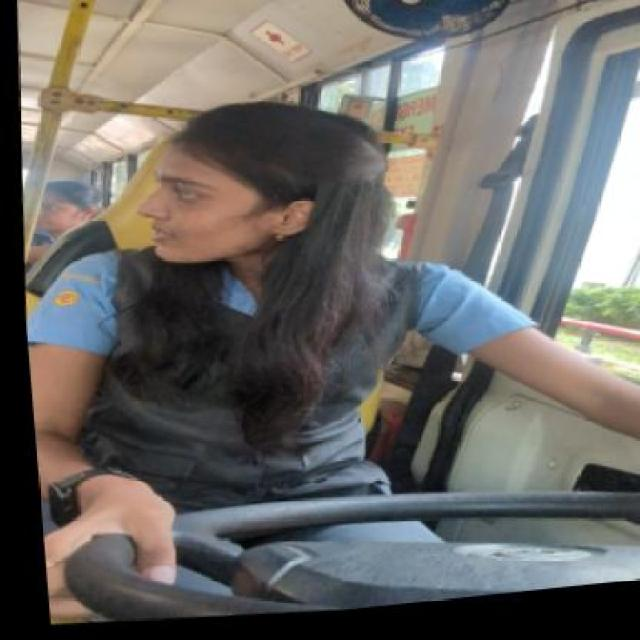Inattentive: (140, 102, 393, 267)
